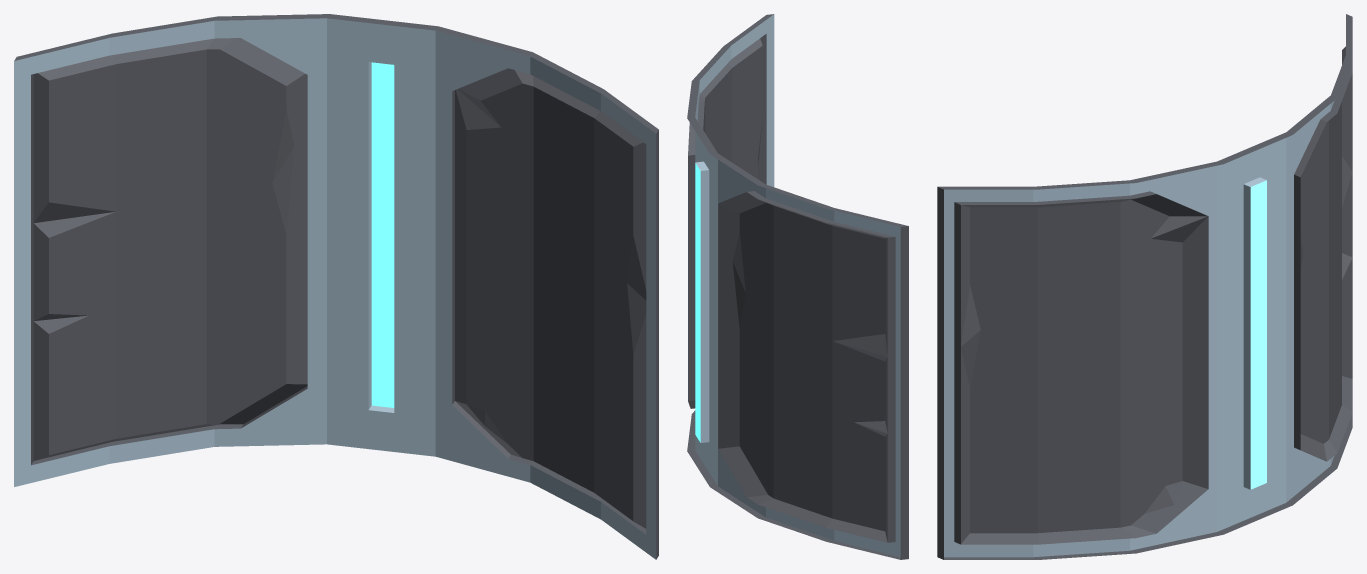
The model's file is Wall_Small_Curved.fbx.
The picture shows the model from 3 angles, left to right: view 1: azimuth 30°, elevation 25°; view 2: azimuth 150°, elevation 25°; view 3: azimuth 270°, elevation 25°; orthographic projection. The views are drawn at different scales.
Visible parts, largest first — view 1: Wall_Small_Curved; view 2: Wall_Small_Curved; view 3: Wall_Small_Curved.
Part boxes in pixels (<box>): Wall_Small_Curved: <box>14,14,658,559</box>; Wall_Small_Curved: <box>687,14,908,559</box>; Wall_Small_Curved: <box>937,14,1352,559</box>.
Size of the model in its own units: 4.06 by 4 by 4.06.
